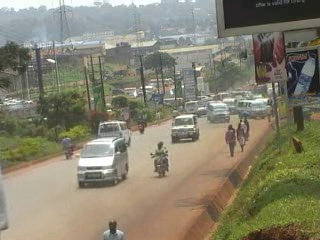Car: (74, 135, 132, 189), (168, 112, 200, 144)
Motorcycle: (147, 150, 172, 178), (61, 137, 75, 161), (137, 119, 146, 136)
